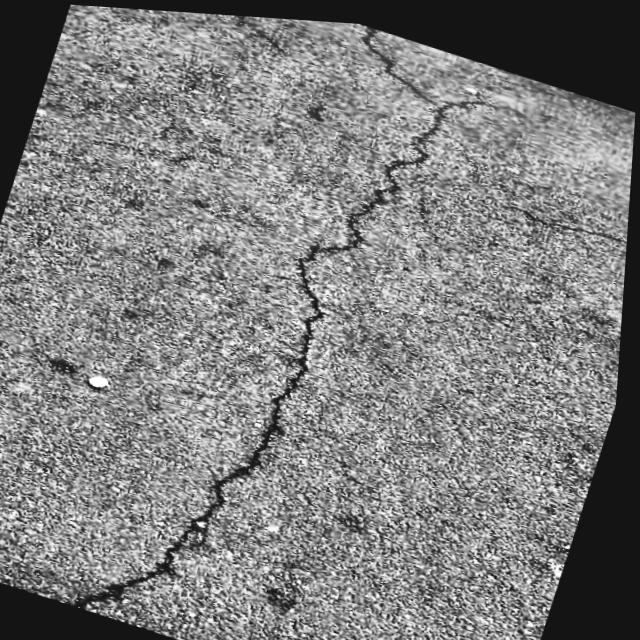cracks: (76, 19, 484, 613)
